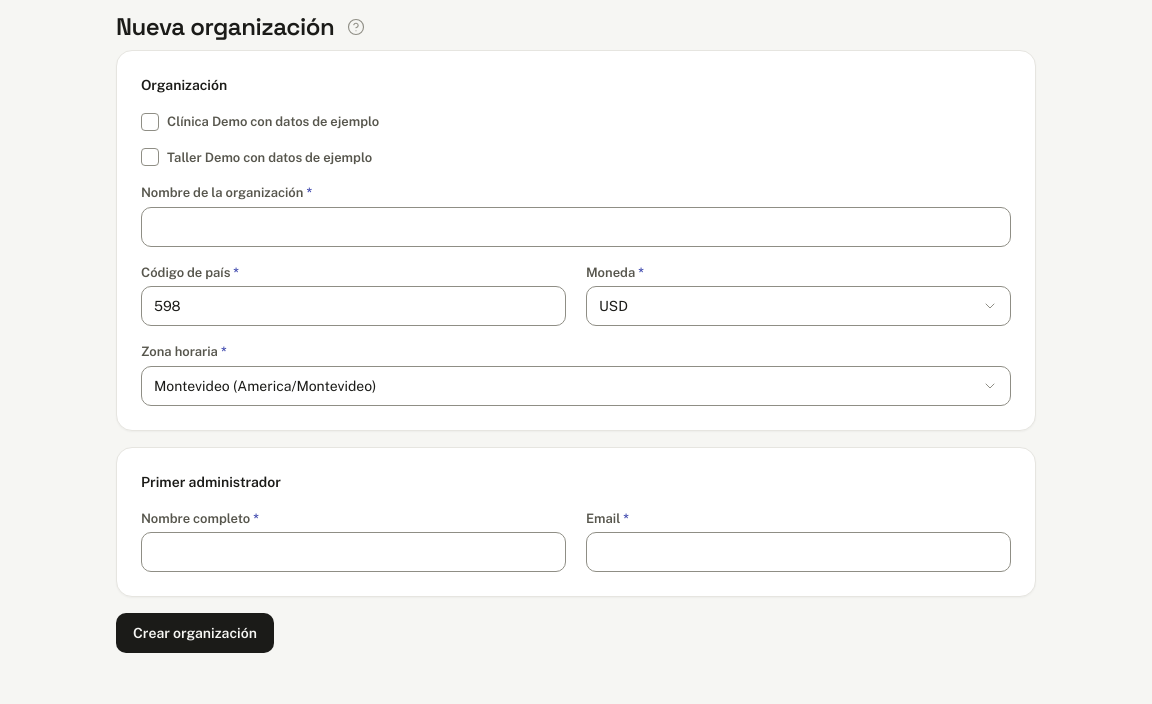
Test: NewOrganizationPage › error de conflicto (409) del backend se muestra tal cual y el formulario sigue ahí con lo tipeado
Type "Automotora Pérez" into the field labelled "Nombre de la organización".
click(576, 226); type("Automotora Pérez")  # box x1=141 y1=206 x2=1011 y2=246
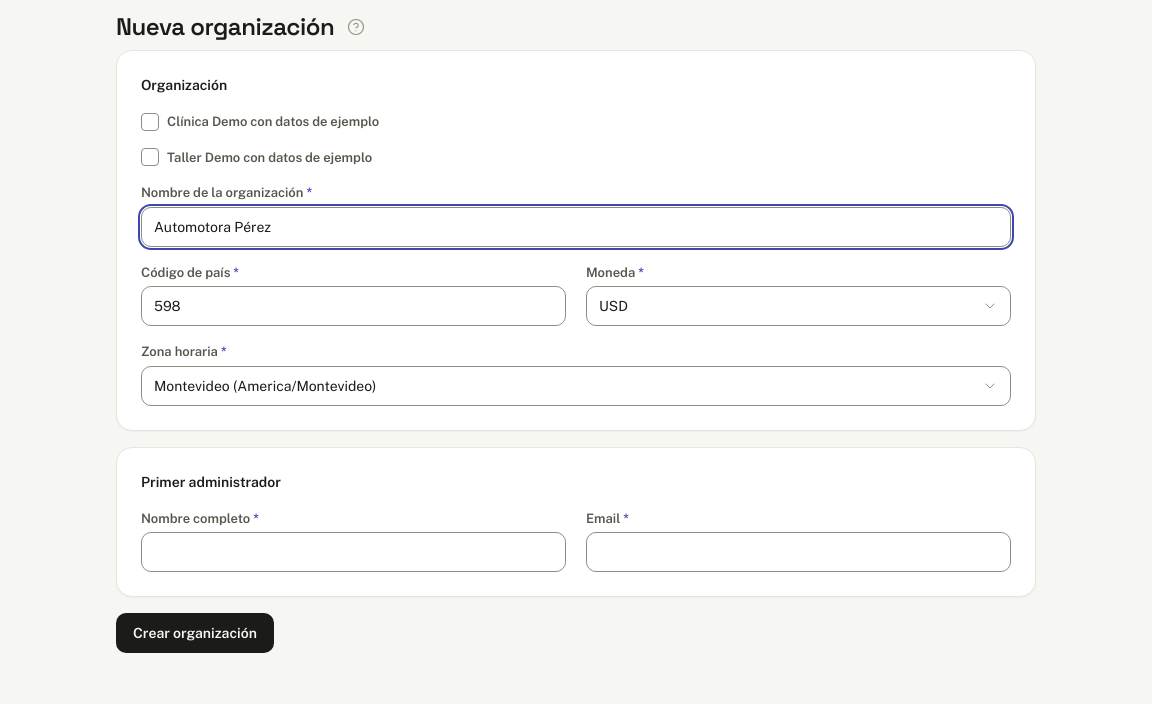
Type "Juan Pérez" into the field labelled "Nombre completo".
click(354, 552); type("Juan Pérez")  # box x1=141 y1=532 x2=566 y2=572
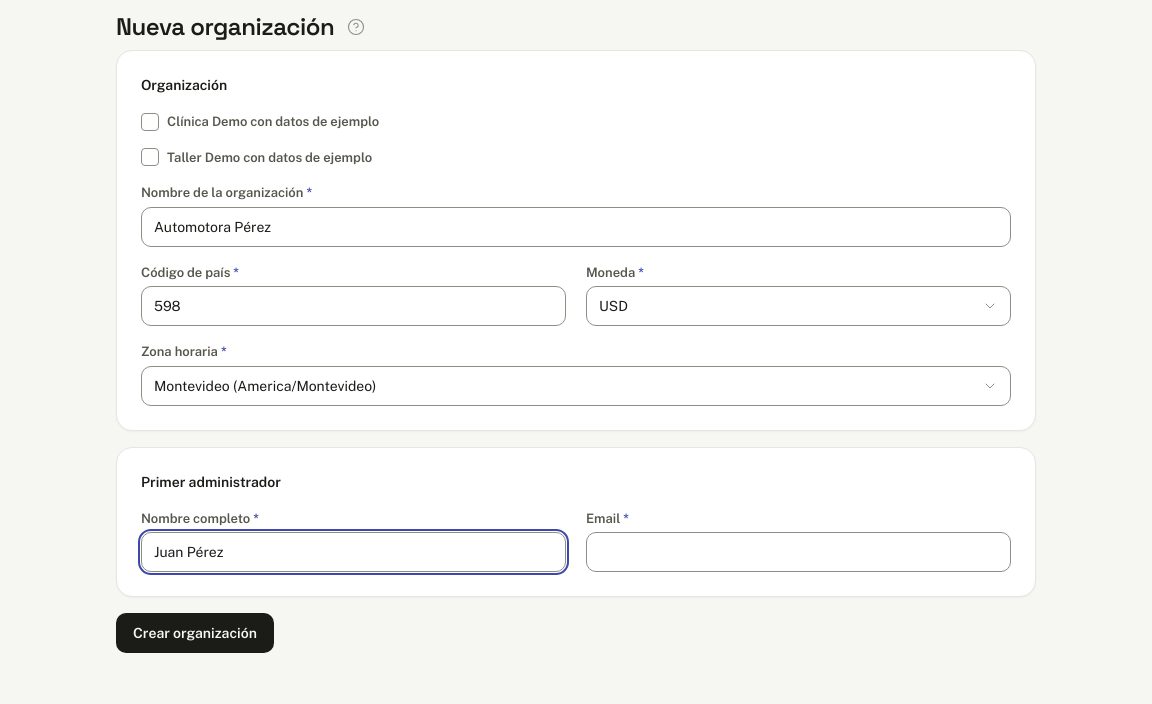
Type "juan@perez.test" into the field labelled "Email".
click(798, 552); type("juan@perez.test")  # box x1=586 y1=532 x2=1011 y2=572
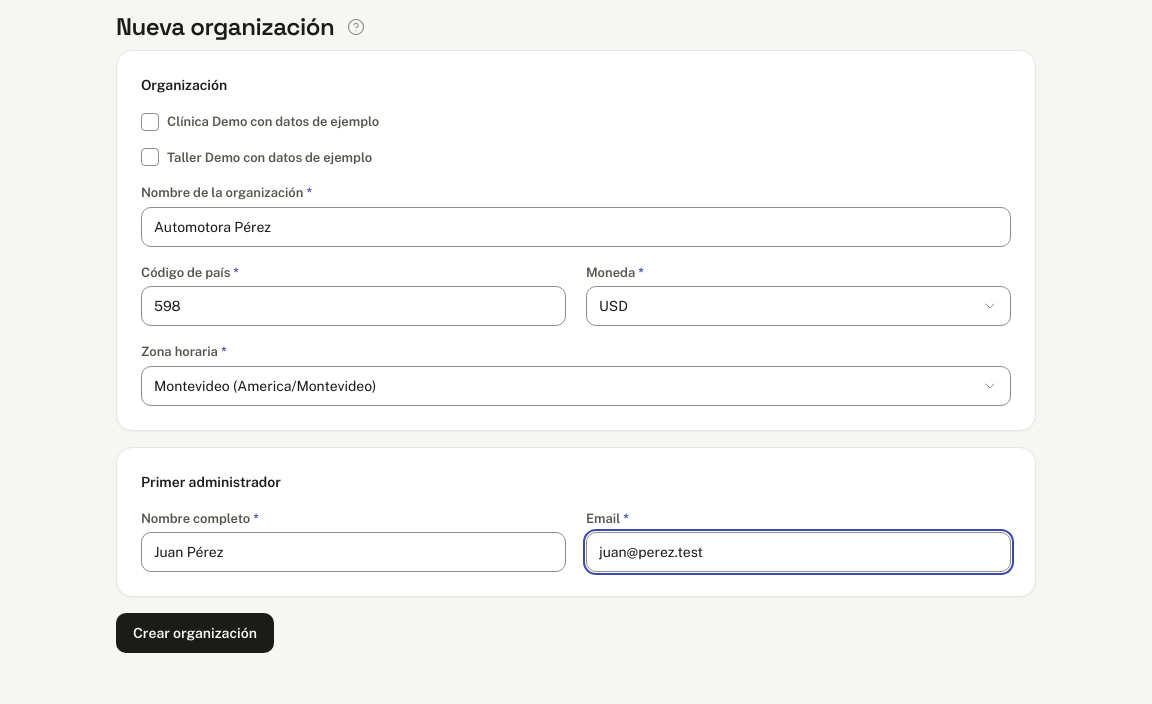
Click the button "Crear organización".
click(195, 633)  # box x1=116 y1=613 x2=274 y2=653
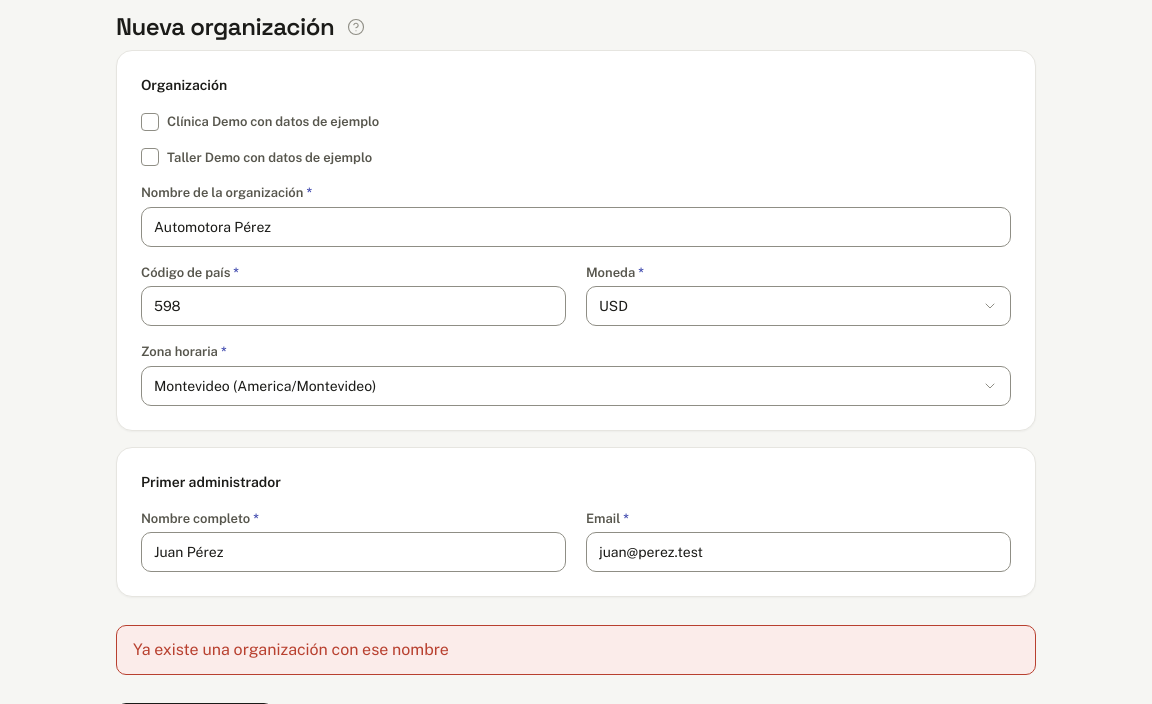
Now the message reads "Ya existe una organización con ese nombre", box x1=133 y1=640 x2=449 y2=659
